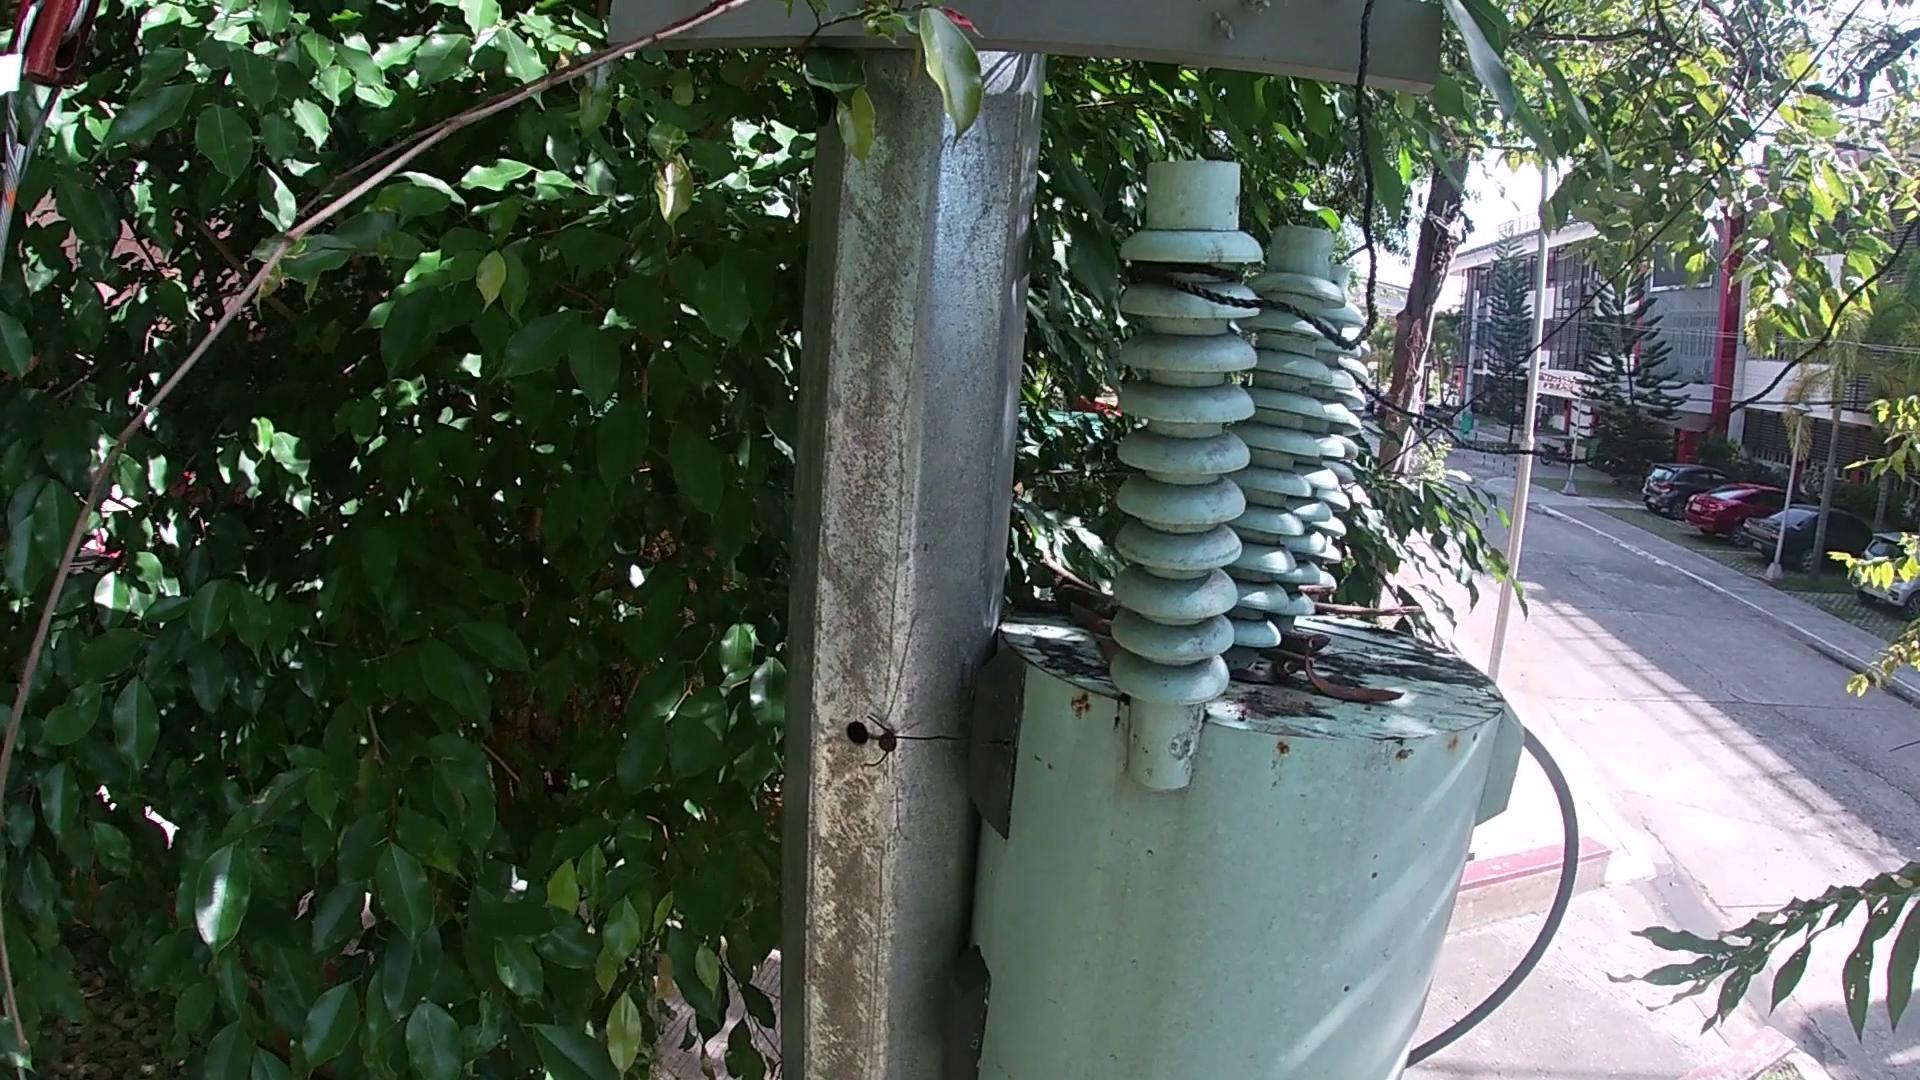leaf: (1222, 665, 1273, 684), (1092, 640, 1116, 673)
mahogany fruit: (1309, 665, 1408, 716), (1290, 636, 1346, 658)
tree branch: (1, 1, 771, 774), (1042, 571, 1116, 616), (1319, 597, 1429, 626), (1036, 554, 1101, 584)
